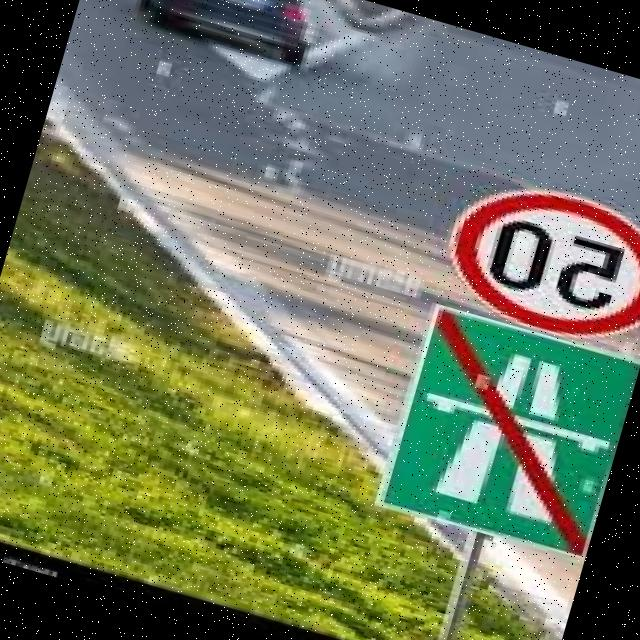speed_limit_50: (405, 155, 640, 356)
